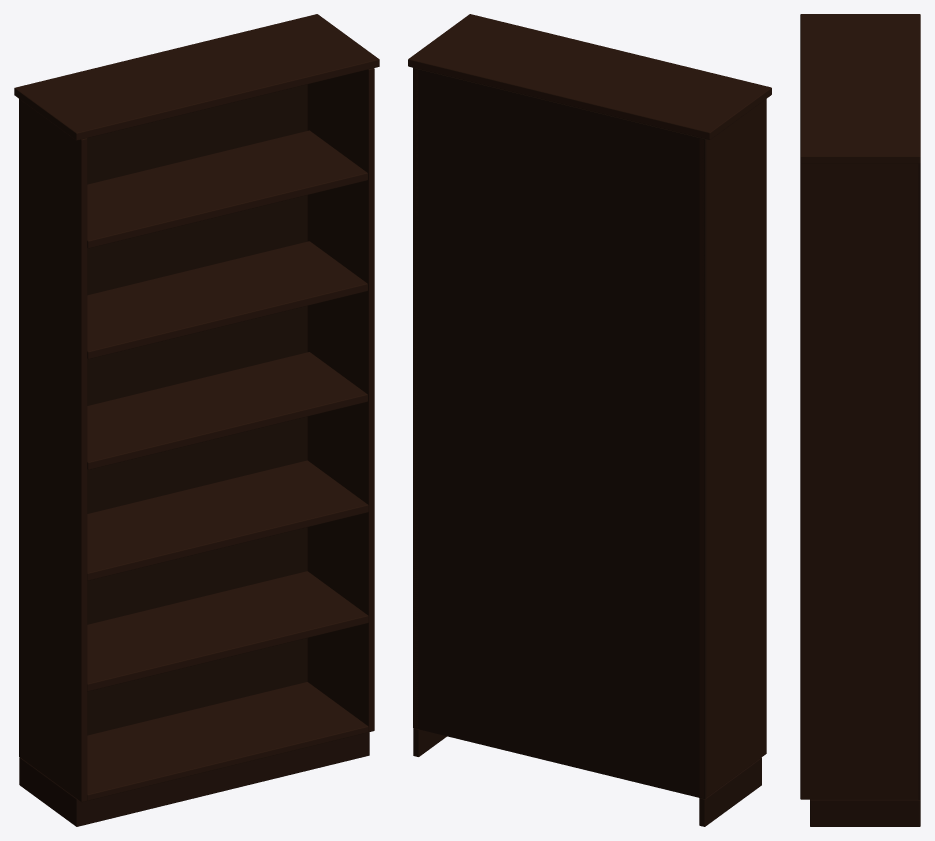
The model's file is Hallam_bookcase.obj.
3 views of the same model, side by side, from view 1: azimuth 30°, elevation 25°; view 2: azimuth 150°, elevation 25°; view 3: azimuth 270°, elevation 25° (orthographic). The views are drawn at different scales.
Parts seen in each view (by area): view 1: back, side.panel_1, side.panel_2, top, shelf.fixed_1, shelf.fixed_2, bottom, shelf.adjustable_1, shelf.adjustable_2, shelf.adjustable_3, plinth.front, plinth.side_1; view 2: back, side.panel_1, top, side.panel_2, plinth.side_1; view 3: side.panel_2, top, plinth.side_2, back.
Part boxes in pixels (<box>): back: <box>19,84,307,757</box>; side.panel_1: <box>20,100,87,802</box>; side.panel_2: <box>307,68,374,731</box>; top: <box>14,14,379,140</box>; shelf.fixed_1: <box>87,571,368,691</box>; shelf.fixed_2: <box>87,460,368,580</box>; bottom: <box>87,682,368,800</box>; shelf.adjustable_1: <box>87,352,367,469</box>; shelf.adjustable_2: <box>87,241,367,359</box>; shelf.adjustable_3: <box>87,130,367,248</box>; plinth.front: <box>73,732,369,826</box>; plinth.side_1: <box>19,757,81,826</box>; back: <box>413,68,706,798</box>; side.panel_1: <box>699,99,766,798</box>; top: <box>408,14,771,139</box>; side.panel_2: <box>413,69,418,728</box>; plinth.side_1: <box>699,759,758,826</box>; side.panel_2: <box>800,163,918,799</box>; top: <box>800,14,920,163</box>; plinth.side_2: <box>816,799,920,826</box>; back: <box>918,163,920,799</box>.
Size of the model in its own units: 0.9 by 1.98 by 0.32.
